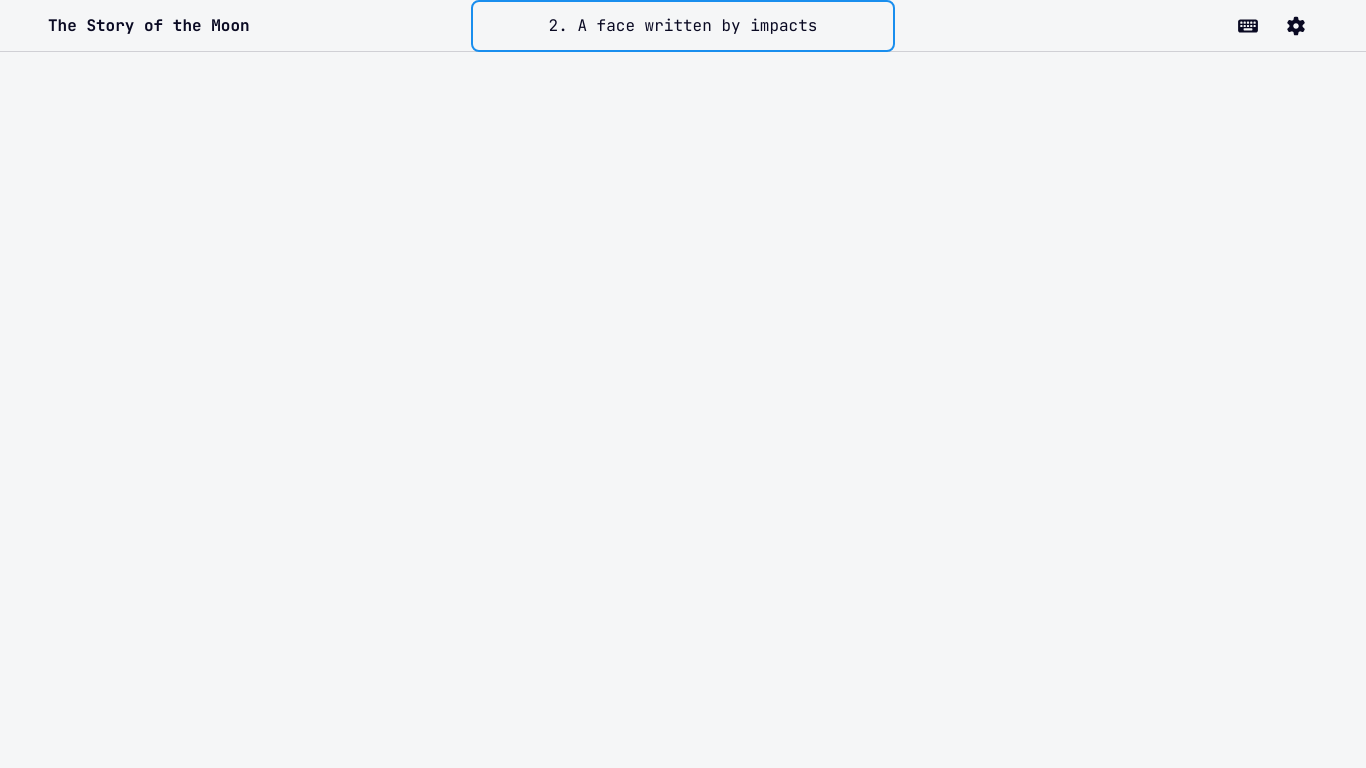
Test: NavStrip › should open the keyboard shortcuts dialog when focus is on nav buttons
Press ? in the button with aria-label "open chapter list", box [475,4,891,48]
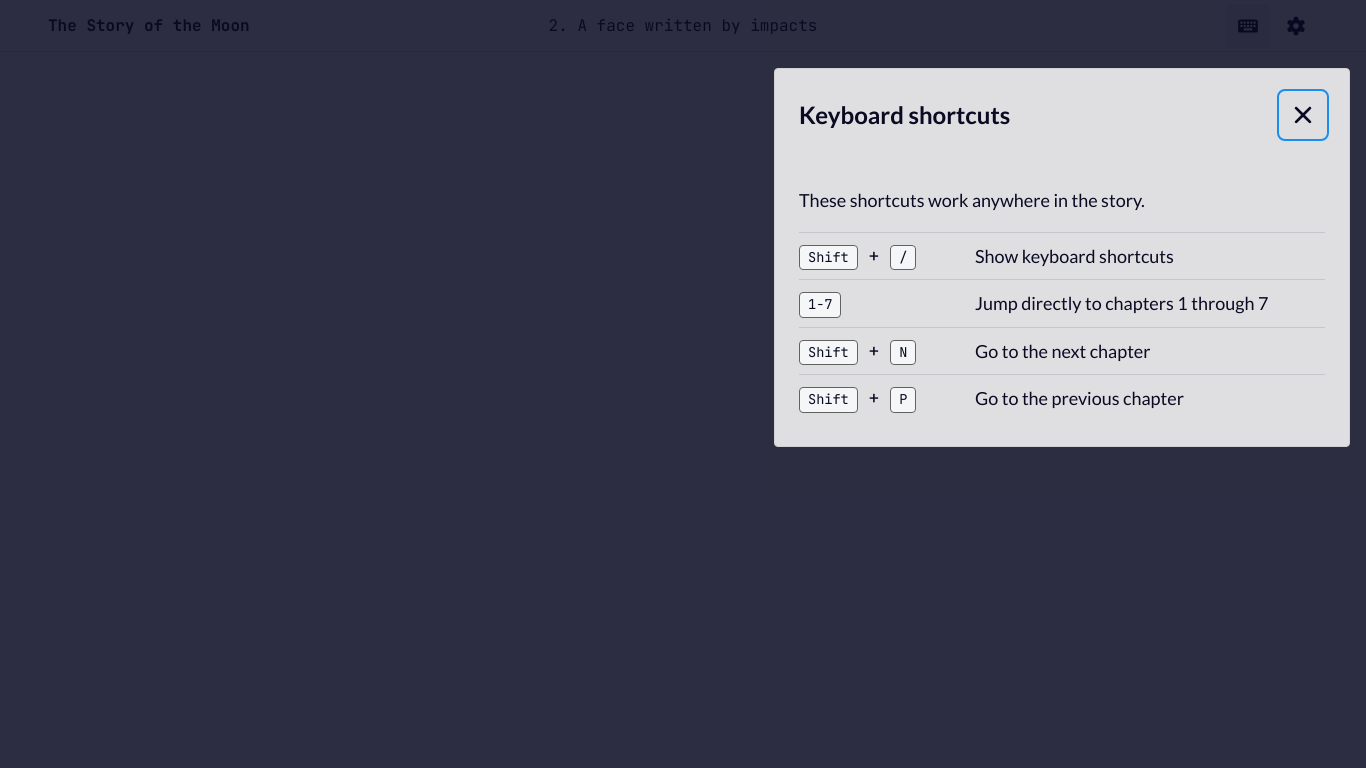
Now the dialog "Keyboard shortcuts" is shown, box [774,68,1350,447]
Click the button named "close keyboard shortcuts".
click(1303, 115)  # box [1281,93,1325,137]
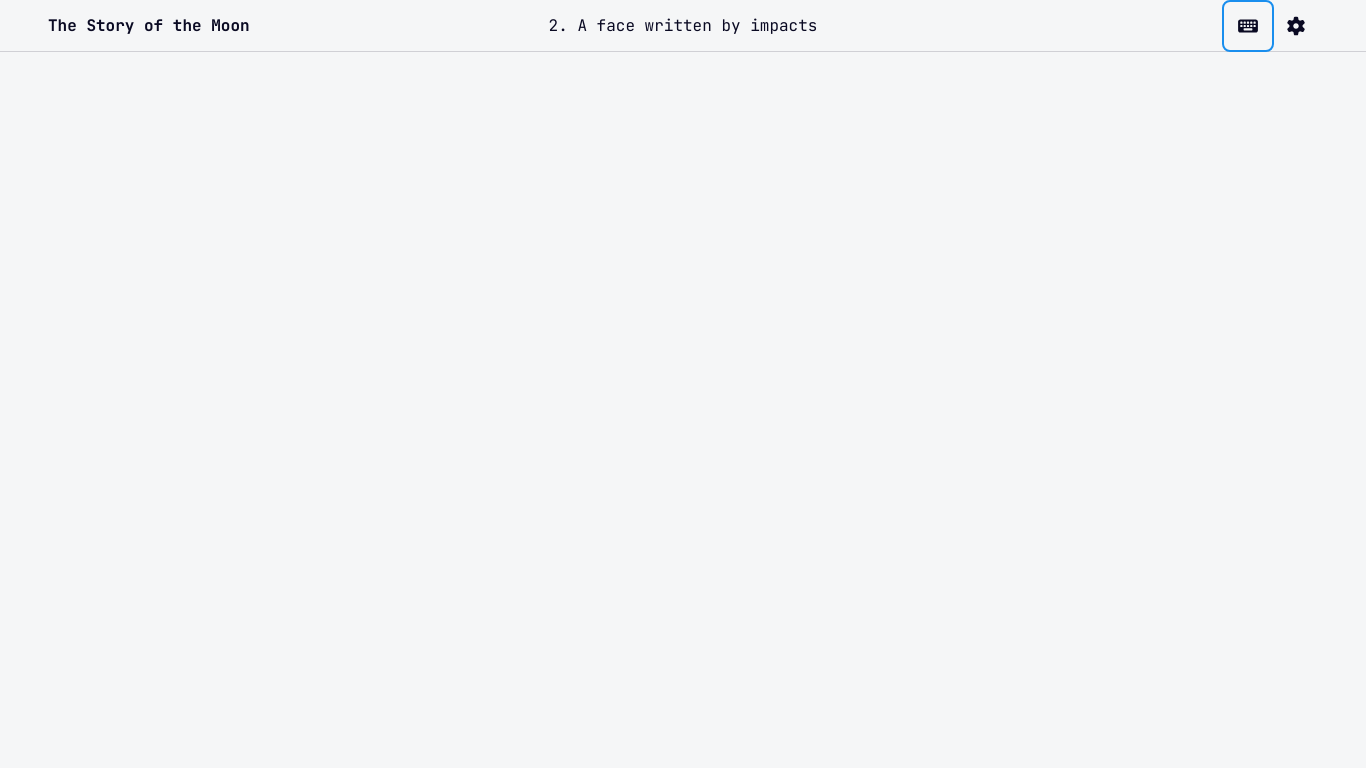
Press ? in the button named "show keyboard shortcuts", box [1226,4,1270,48]
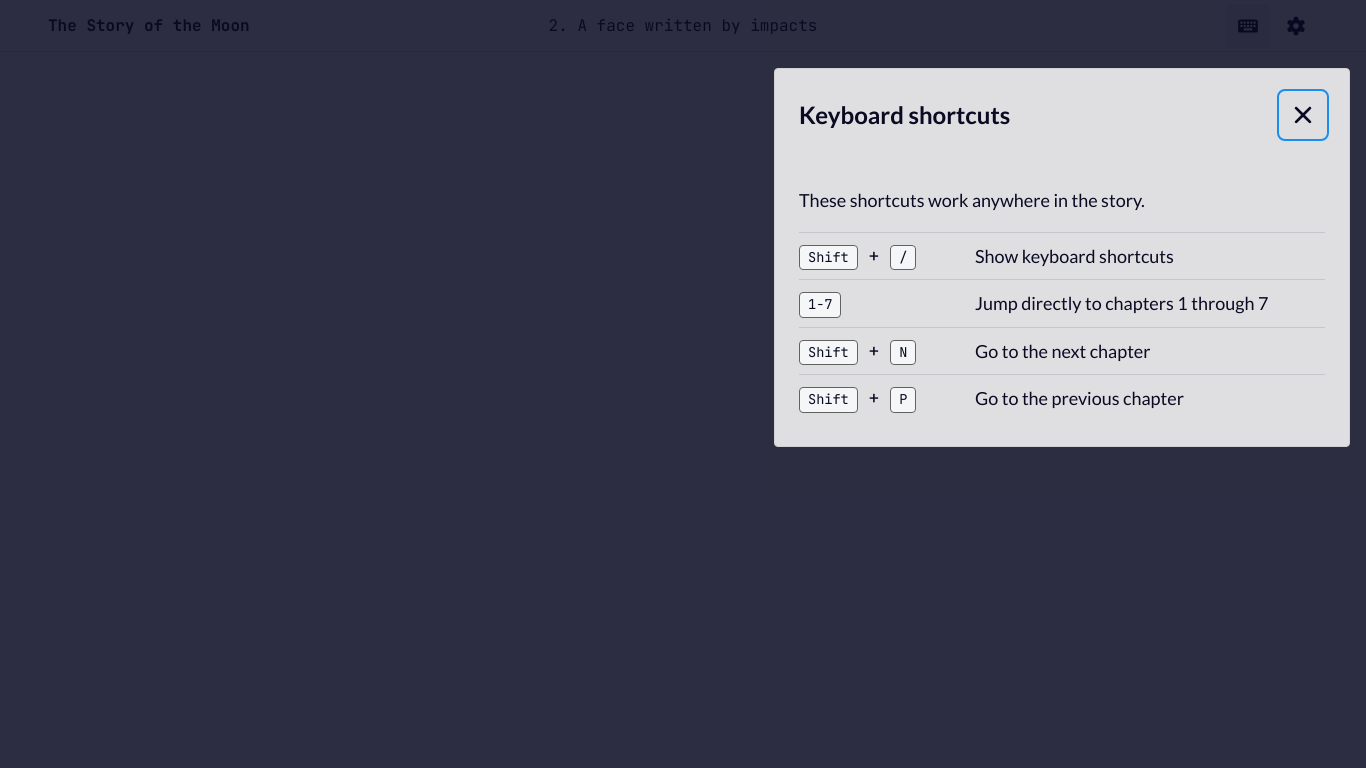
Now the dialog "Keyboard shortcuts" is shown, box [774,68,1350,447]
